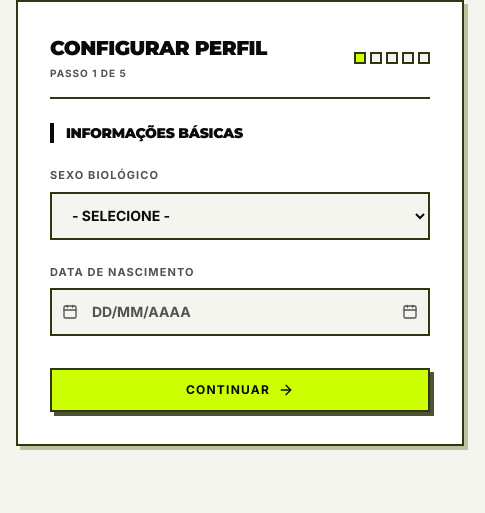
Test: OnboardingFlow Component (PC-34 / TST-011) › deve exibir erros de validação ao tentar avançar sem preencher os campos do passo 1
Step 1. Click the button "CONTINUAR" → (240, 390), box [50,368,430,412]
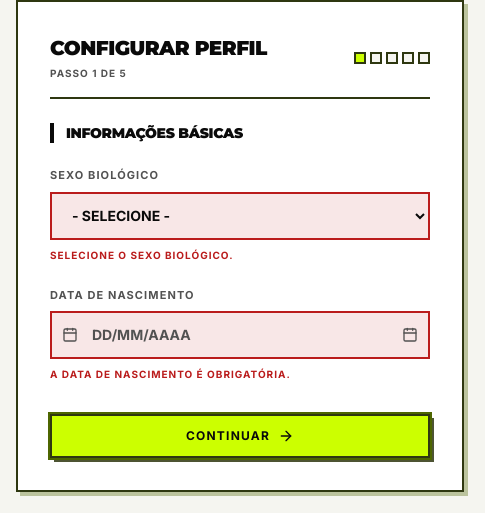
expect the text "SELECIONE O SEXO BIOLÓGICO." is shown: met, box [50,248,234,260]
expect the text "A DATA DE NASCIMENTO É OBRIGATÓRIA." is shown: met, box [50,368,291,380]
